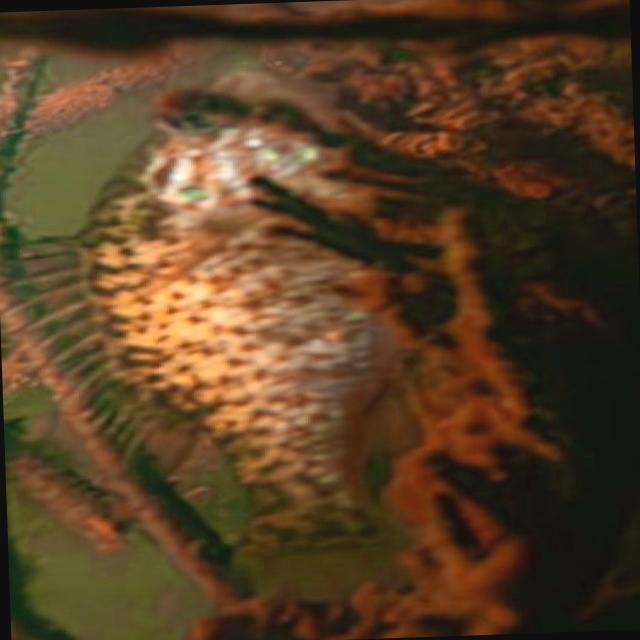Gunes Levregi: (0, 72, 428, 580)
